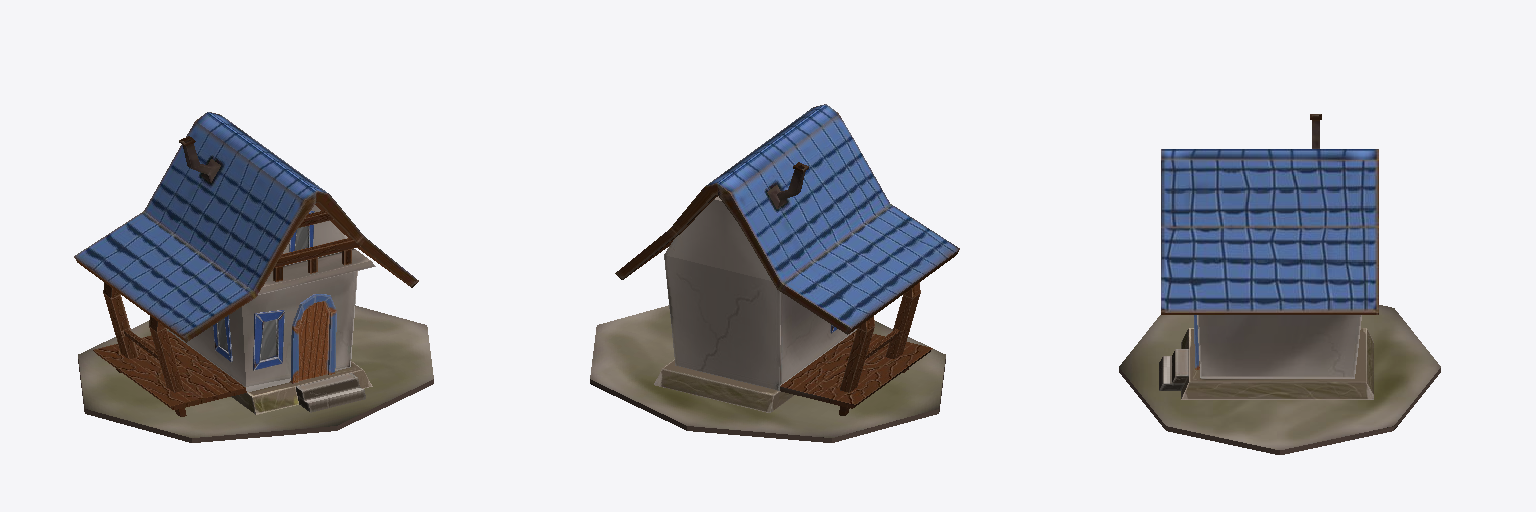
3 renders of one model, left to right at view 1: azimuth 30°, elevation 25°; view 2: azimuth 150°, elevation 25°; view 3: azimuth 270°, elevation 25°, orthographic.
Parts seen in each view (by area): view 1: Object_3; view 2: Object_3; view 3: Object_3.
Boxes of the visible parts, x1=… form: Object_3: x1=74, y1=112, x2=433, y2=442; Object_3: x1=590, y1=104, x2=959, y2=442; Object_3: x1=1119, y1=114, x2=1440, y2=454.
Bounding box in the file's own units: 185 × 120 × 151.
1 materials, 1 textured.